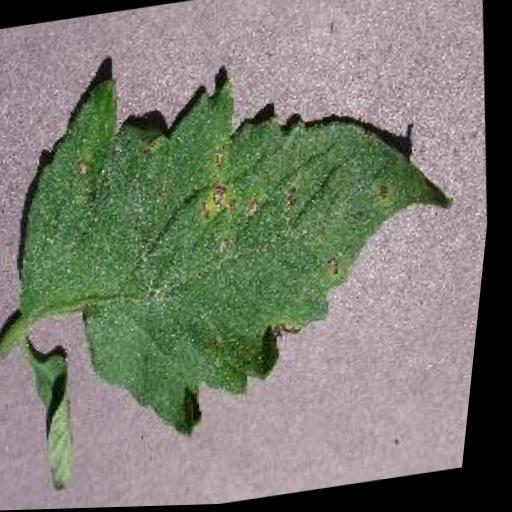Septoria: (0, 19, 495, 462)
